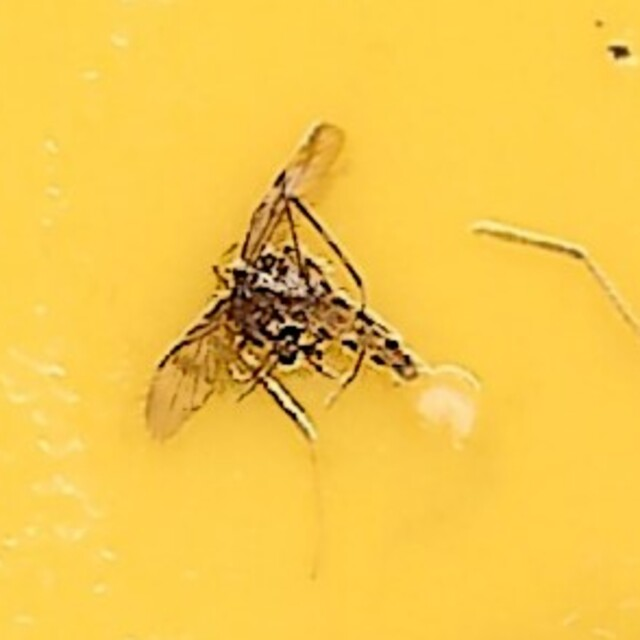Nematocera: (218, 242, 422, 398)
